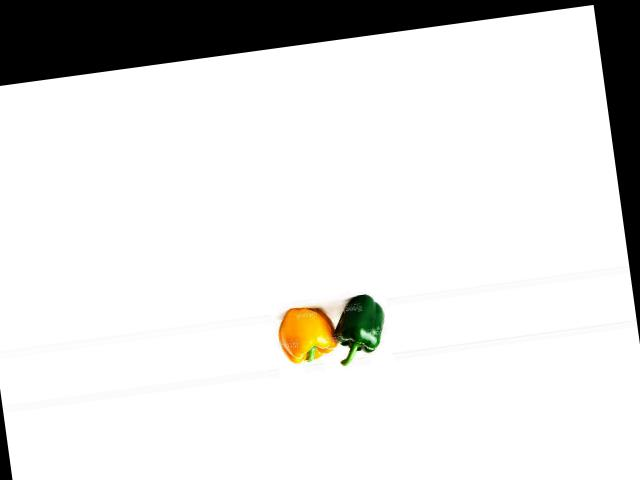bell_pepper: (329, 283, 393, 360)
